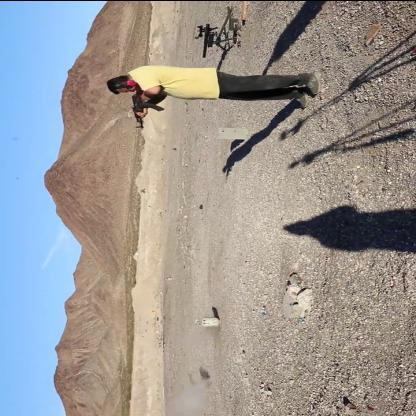long weapon: (131, 78, 167, 144), (190, 19, 234, 60)
